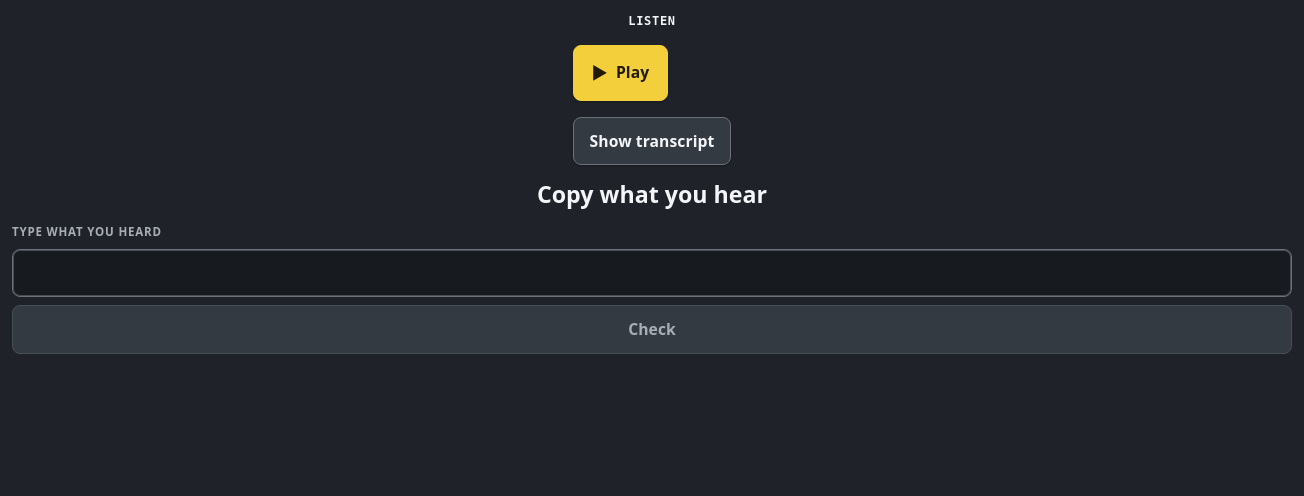
Test: a listening card › grades a typed copy objectively, forgiving only case and spacing, and hands it over after the dwell
This screenshot has width=1304, height=496.
Type "a 1 2" into the field labelled "Type what you heard".
click(652, 273); type("a 1 2")  # box [12, 249, 1292, 297]
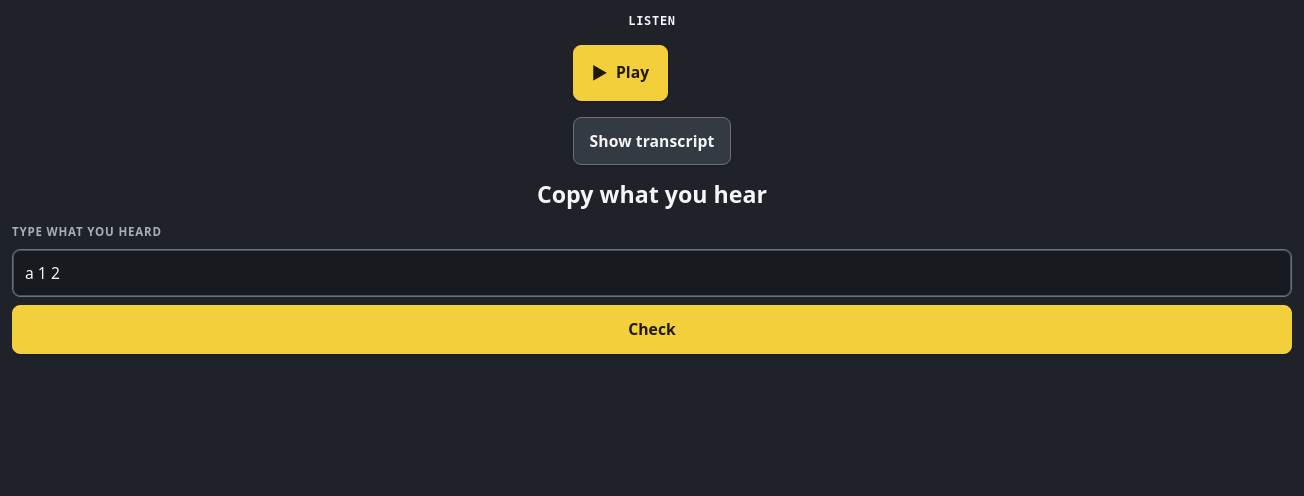
Click the button "Check".
click(652, 329)  # box [12, 305, 1292, 354]
Wait 2000 ms
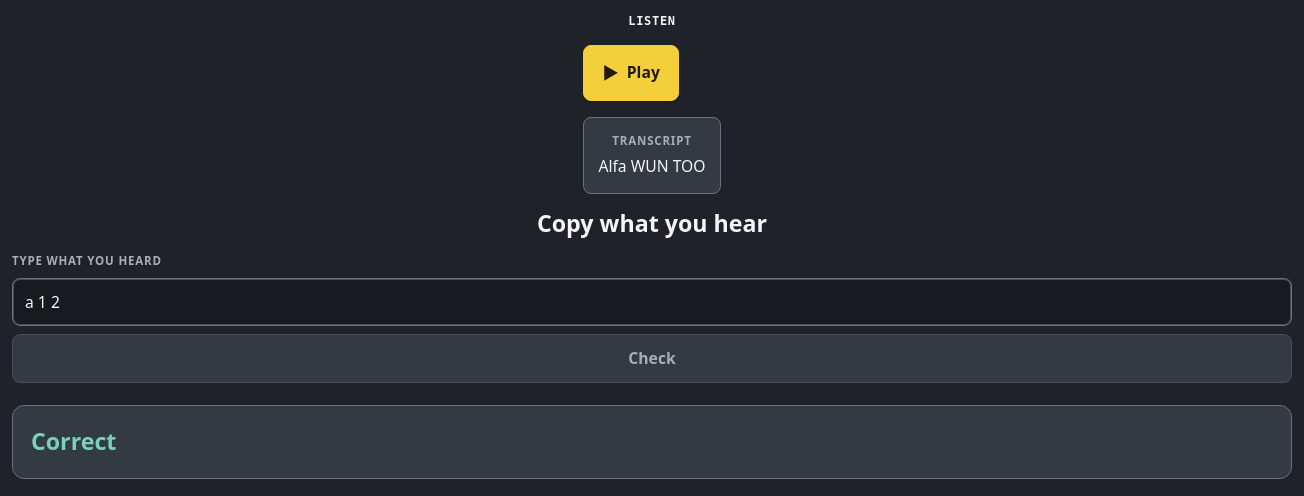
expect the text "Correct" is shown: met, box [31, 424, 116, 460]
